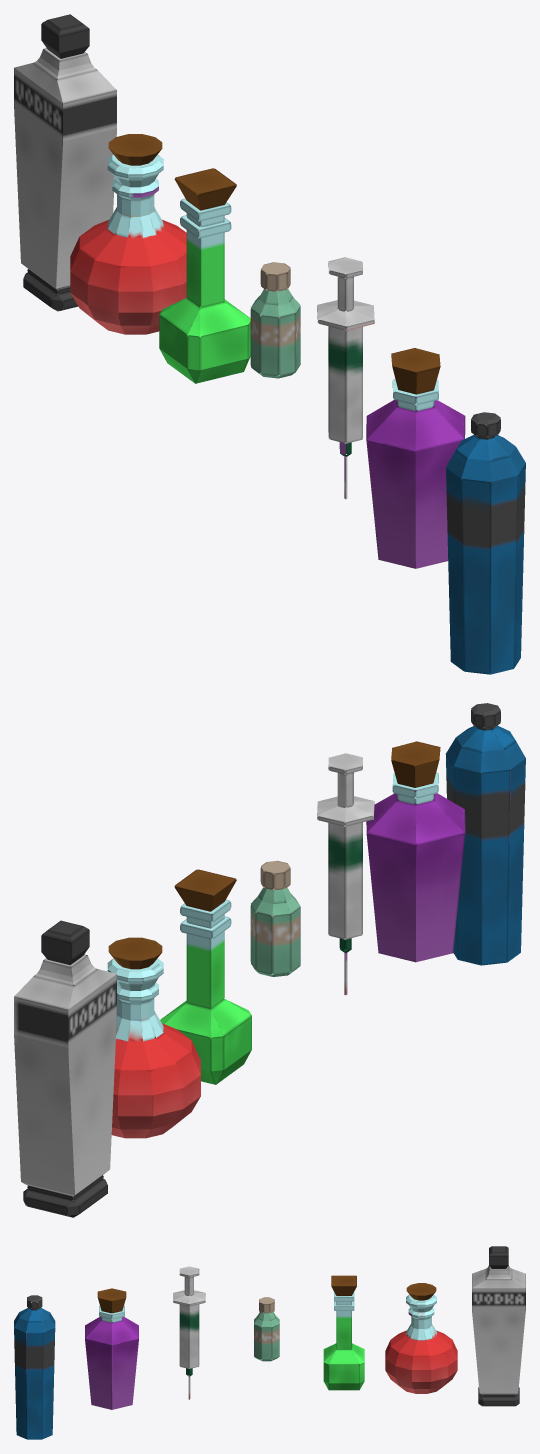
Rendered from items.fbx.
3 renders of one model, top to bottom at view 1: azimuth 30°, elevation 25°; view 2: azimuth 150°, elevation 25°; view 3: azimuth 270°, elevation 25°, orthographic. The views are drawn at different scales.
Visible parts, largest first — view 1: vodka, mineralWater, serumAlpha, serumOmega, serumBeta, syringe, cure; view 2: vodka, serumAlpha, mineralWater, serumOmega, serumBeta, syringe, cure; view 3: vodka, mineralWater, serumAlpha, serumOmega, serumBeta, syringe, cure.
Part boxes in pixels (left/top/right/bottom): vodka: left=14, top=14, right=116, bottom=311; mineralWater: left=445, top=412, right=525, bottom=674; serumAlpha: left=366, top=348, right=465, bottom=568; serumOmega: left=70, top=134, right=186, bottom=334; serumBeta: left=159, top=168, right=250, bottom=383; syringe: left=317, top=257, right=374, bottom=499; cure: left=250, top=262, right=300, bottom=378; vodka: left=14, top=920, right=116, bottom=1217; serumAlpha: left=366, top=741, right=465, bottom=962; mineralWater: left=445, top=703, right=525, bottom=965; serumOmega: left=107, top=937, right=200, bottom=1138; serumBeta: left=160, top=869, right=251, bottom=1084; syringe: left=317, top=753, right=374, bottom=995; cure: left=250, top=860, right=300, bottom=976; vodka: left=472, top=1246, right=525, bottom=1406; mineralWater: left=14, top=1295, right=55, bottom=1439; serumAlpha: left=85, top=1288, right=138, bottom=1409; serumOmega: left=385, top=1283, right=457, bottom=1393; serumBeta: left=323, top=1275, right=364, bottom=1390; syringe: left=173, top=1266, right=205, bottom=1399; cure: left=254, top=1297, right=279, bottom=1361.
Size of the model in its own units: 175 by 488 by 1241.
1 material, 1 textured.
